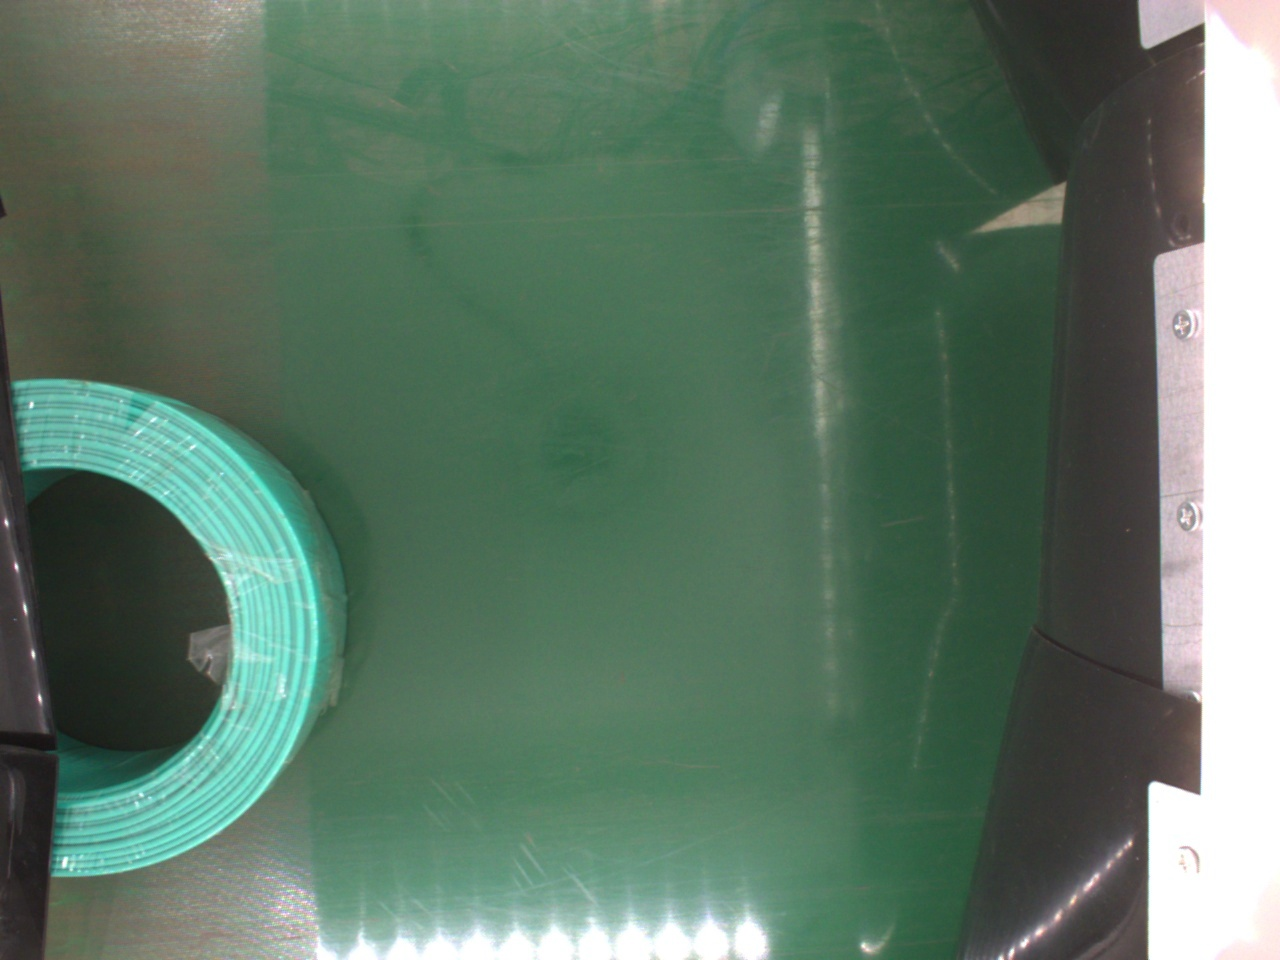green: (10, 372, 351, 886)
